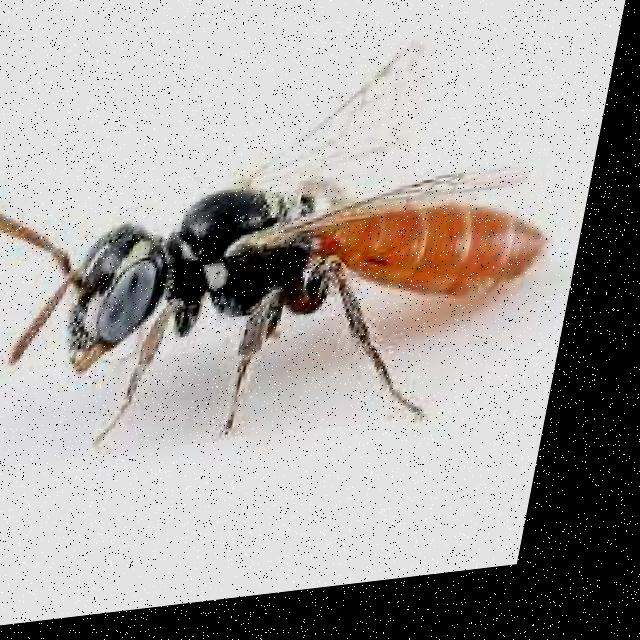Allodapula: (0, 35, 604, 499)
